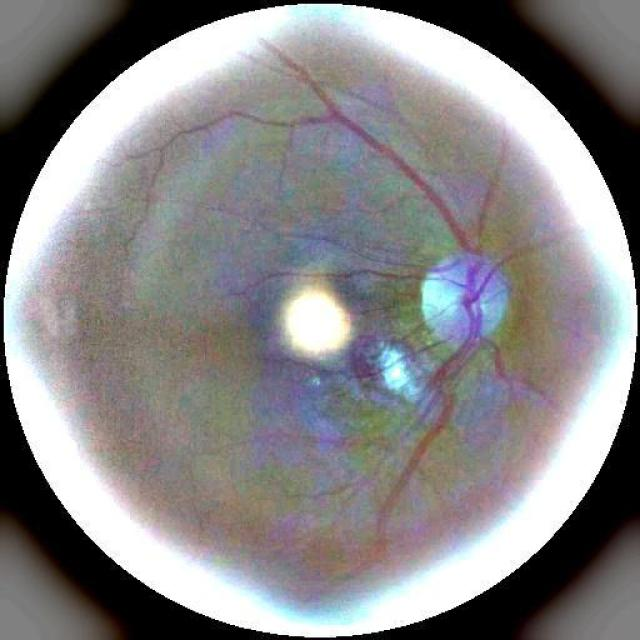Nerves: (165, 60, 483, 565)
Optic Disk: (393, 234, 538, 365)
